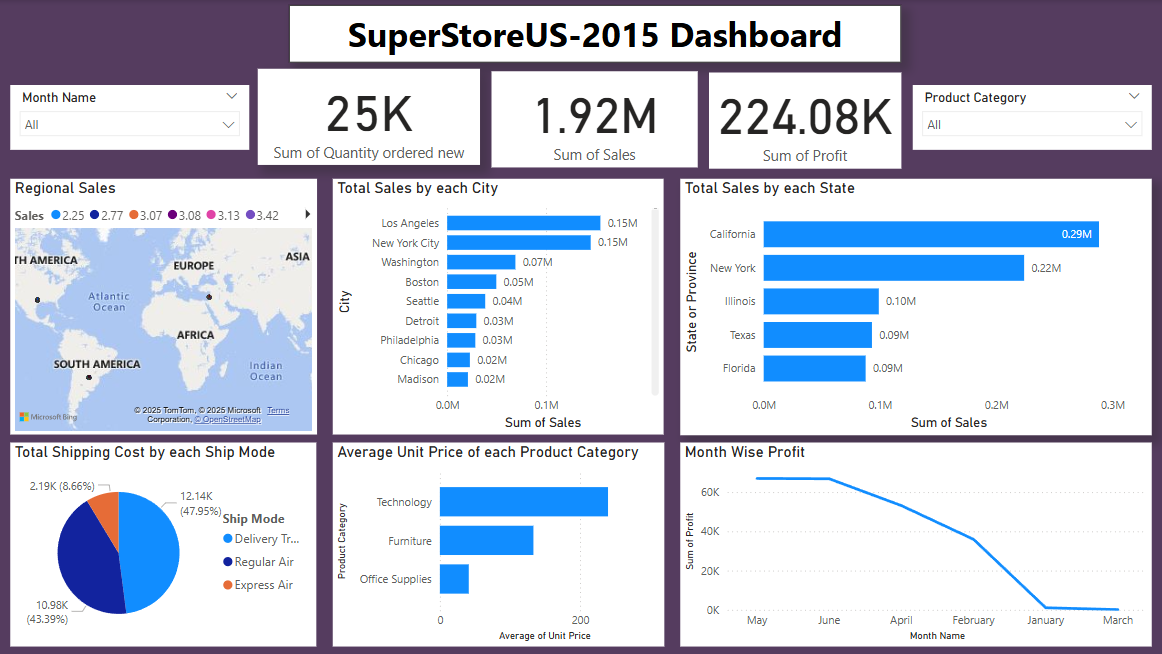

This screenshot's page, from the dashboard's own definition file:
{"tool":"powerbi","page":{"name":"Dashboard1","canvas":[1280,720],"ordinal":0},"visuals":[{"type":"textbox","box":[318.4,5.5,672.4,63.1],"z":0},{"type":"card","fields":{"Values":["Sum(Orders.Quantity ordered new)"]},"box":[284,75.5,244.3,105.7],"z":1000},{"type":"card","fields":{"Values":["Sum(Orders.Sales)"]},"box":[540.7,78.2,226.4,105.7],"z":2000},{"type":"card","fields":{"Values":["Sum(Orders.Profit)"]},"box":[779.4,79.6,211.3,105.7],"z":3000},{"type":"barChart","title":"Total Sales by each State","fields":{"Category":["Orders.State or Province"],"Y":["Sum(Orders.Sales)"]},"box":[747.9,196.2,517.3,281.3],"z":4000},{"type":"pieChart","title":"Total Shipping Cost by each Ship Mode","fields":{"Y":["Sum(Orders.Shipping Cost)"],"Category":["Orders.Ship Mode"]},"box":[12.3,485.8,336.2,223.7],"z":5000},{"type":"barChart","title":"Total Sales by each City","fields":{"Y":["Sum(Orders.Sales)"],"Category":["Orders.City"]},"box":[366.8,196.6,363.1,281.1],"z":6000},{"type":"map","title":"Regional Sales","fields":{"Series":["Orders.Sales"],"Category":["Orders.Region"]},"box":[12.1,196.6,336.6,281.1],"z":7000},{"type":"barChart","title":"Average Unit Price of each Product Category","fields":{"Y":["Avg(Orders.Unit Price)"],"Category":["Orders.Product Category"]},"box":[366.4,485.8,363.6,223.7],"z":8000},{"type":"lineChart","title":"Month Wise Profit","fields":{"Y":["Sum(Orders.Profit)"],"Category":["Orders.Month Name"]},"box":[747.9,485.8,517.3,223.7],"z":9000},{"type":"slicer","fields":{"Values":["Orders.Product Category"]},"box":[1003.1,93.3,262.1,71.4],"z":10000},{"type":"slicer","fields":{"Values":["Orders.Month Name"]},"box":[12.3,93.3,262.1,71.4],"z":11000}]}

Visuals, with their boxes in screenshot pixels (x1, y1, x2, y2), scaled from the page's 1280x720 canvas onto the 1162x654 screenshot:
textbox: x1=289, y1=5, x2=899, y2=62
card - Sum(Orders.Quantity ordered new): x1=258, y1=69, x2=480, y2=165
card - Sum(Orders.Sales): x1=491, y1=71, x2=696, y2=167
card - Sum(Orders.Profit): x1=708, y1=72, x2=899, y2=168
"Total Sales by each State" barChart: x1=679, y1=178, x2=1149, y2=434
"Total Shipping Cost by each Ship Mode" pieChart: x1=11, y1=441, x2=316, y2=644
"Total Sales by each City" barChart: x1=333, y1=179, x2=663, y2=434
"Regional Sales" map: x1=11, y1=179, x2=317, y2=434
"Average Unit Price of each Product Category" barChart: x1=333, y1=441, x2=663, y2=644
"Month Wise Profit" lineChart: x1=679, y1=441, x2=1149, y2=644
slicer - Orders.Product Category: x1=911, y1=85, x2=1149, y2=150
slicer - Orders.Month Name: x1=11, y1=85, x2=249, y2=150
